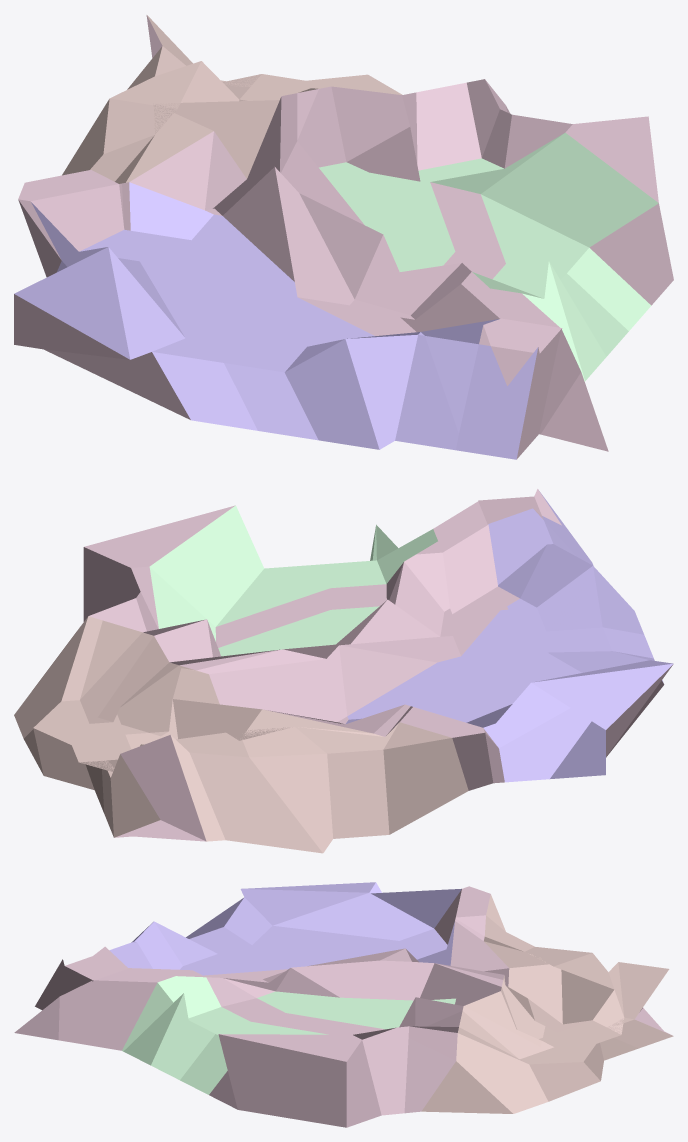
File: black_c_ci.glb
3 renders of one model, top to bottom at view 1: azimuth 30°, elevation 25°; view 2: azimuth 150°, elevation 25°; view 3: azimuth 270°, elevation 25°, orthographic. The views are drawn at different scales.
Parts seen in each view (by area): view 1: Cube; view 2: Cube; view 3: Cube.
Part boxes in pixels (<box>): Cube: <box>14,15,673,459</box>; Cube: <box>14,489,673,853</box>; Cube: <box>14,882,673,1127</box>.
Size of the model in its own units: 2.73 by 0.4927 by 3.63.
